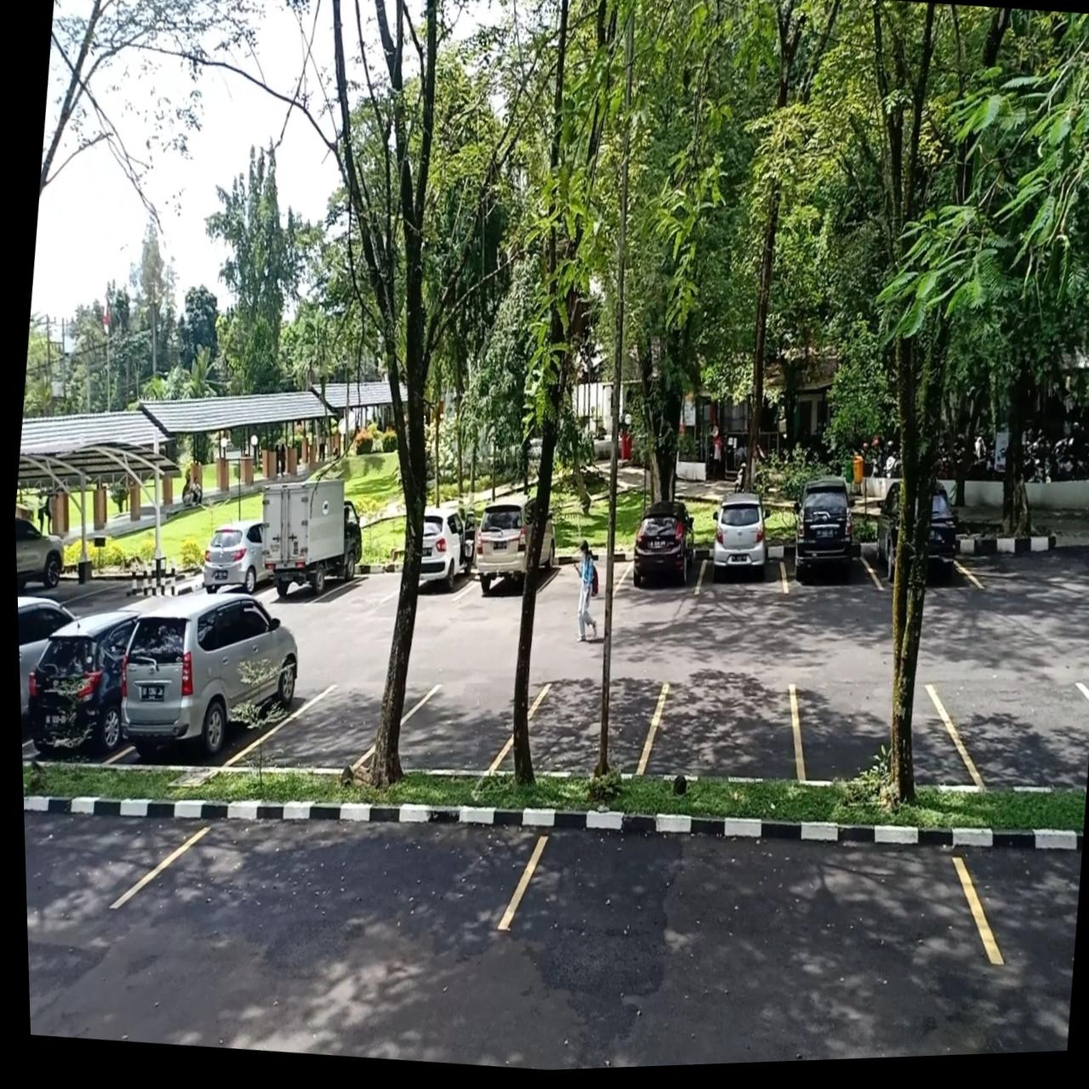cars: (107, 690, 331, 764), (22, 695, 206, 763), (862, 554, 984, 591), (782, 555, 881, 592), (612, 560, 705, 595), (454, 569, 561, 599), (696, 559, 786, 593)
empty: (501, 839, 998, 963), (114, 828, 544, 929), (792, 684, 982, 787), (353, 685, 549, 771), (225, 687, 437, 766), (490, 684, 667, 775), (639, 684, 802, 778), (532, 564, 633, 596), (308, 576, 421, 604)
